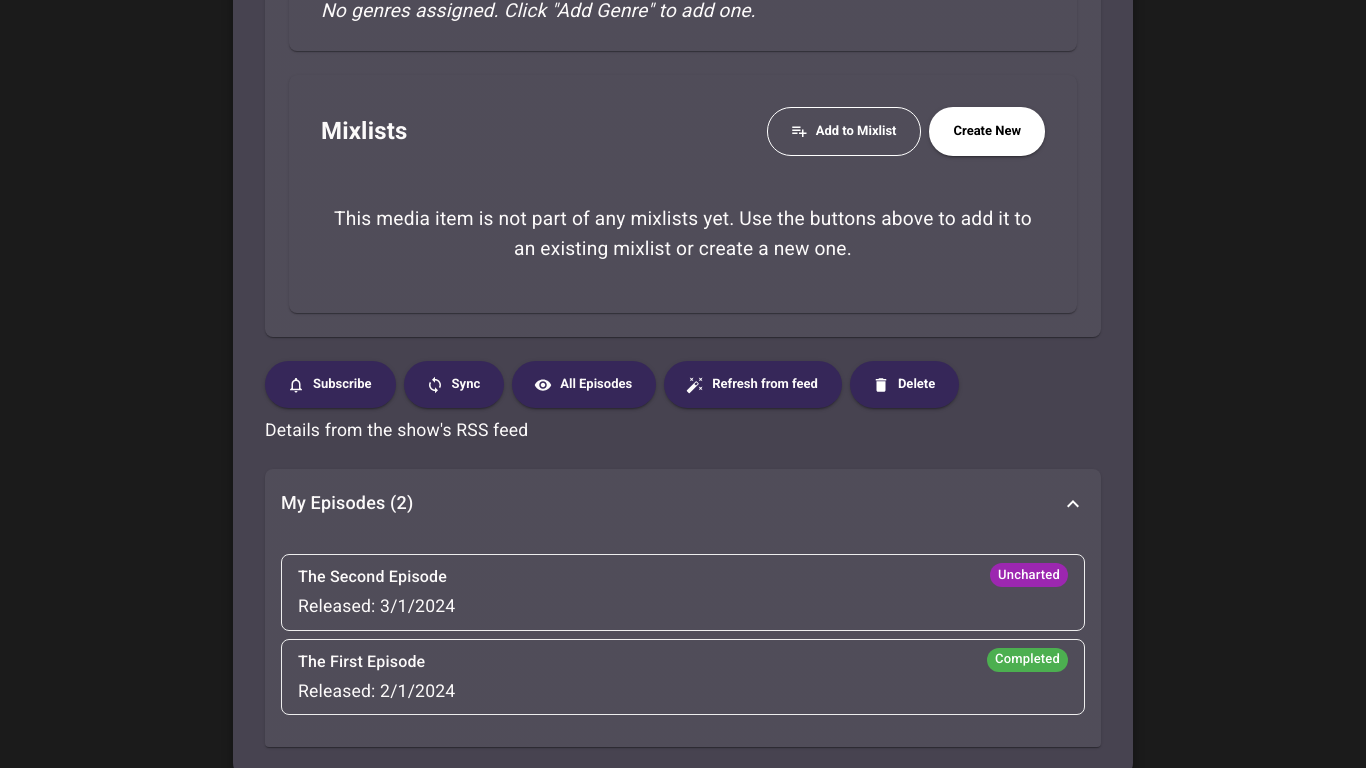
Scenario: PodcastSeriesProfile › reports the sync result: new episodes, the backlog, and any warning
The image size is (1366, 768).
(page scrolled)
Click the button "Sync": (454, 385) [404,361,504,408]
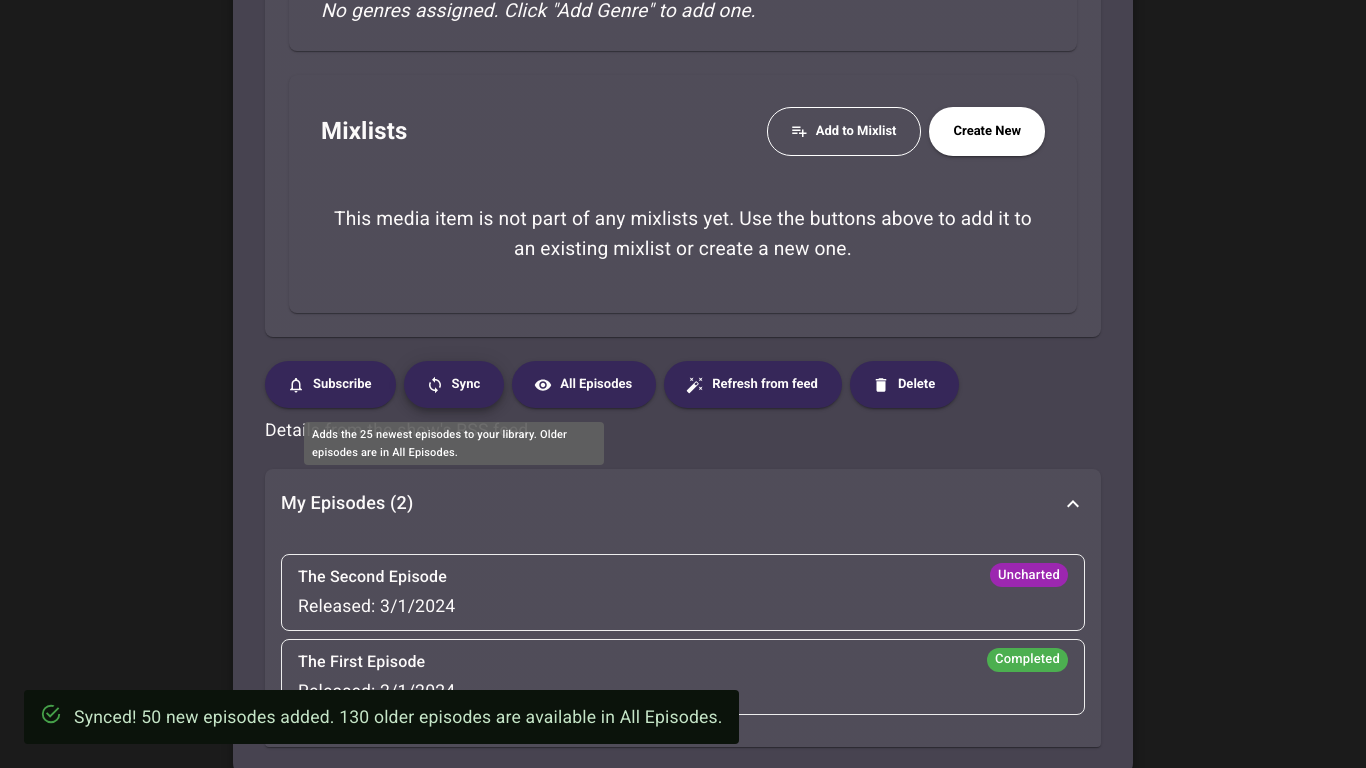
Result: the text "130 older episodes are available in All Episodes" is shown at [74,707,723,727]
